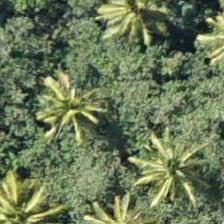coconut_tree: (32, 64, 122, 154), (129, 125, 219, 215), (91, 0, 181, 56), (0, 172, 60, 223)
